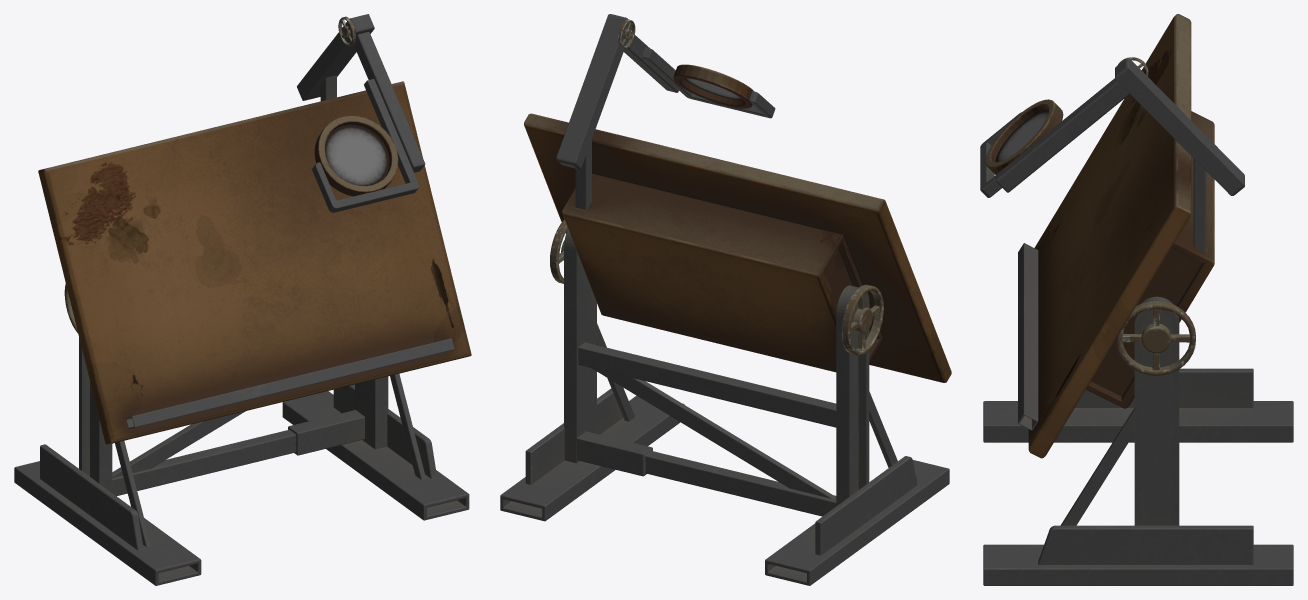
The model's file is pupitre1.fbx.
3 views of the same model, side by side, from view 1: azimuth 30°, elevation 25°; view 2: azimuth 150°, elevation 25°; view 3: azimuth 270°, elevation 25° (orthographic). The views are drawn at different scales.
Parts seen in each view (by area): view 1: Cube, Cube.005, Cube.008, Cube.004, Circle.010, Cube.002, Cube.010, Cube.006, Cube.011, Cube.003, Cube.009; view 2: Cube, Cube.002, Cube.005, Cube.008, Cube.007, Cube.004, Cube.010, Cube.009, Circle.004, Circle.010, Cube.003, Cube.011 (+1 smaller); view 3: Cube, Cube.005, Cube.004, Cube.002, Cube.010, Cube.006, Circle.004, Circle.010, Cube.003, Cube.001, Cube.011.
Boxes of the visible parts, x1,y1,x2,y2 form: Cube: (38, 81, 471, 444); Cube.005: (14, 391, 469, 585); Cube.008: (112, 410, 364, 496); Cube.004: (40, 384, 436, 550); Circle.010: (314, 115, 398, 196); Cube.002: (79, 337, 388, 492); Cube.010: (297, 14, 425, 172); Cube.006: (126, 338, 454, 429); Cube.011: (312, 79, 419, 212); Cube.003: (115, 373, 425, 546); Cube.009: (112, 411, 245, 477); Cube: (524, 113, 951, 382); Cube.002: (564, 229, 869, 505); Cube.005: (500, 395, 949, 585); Cube.008: (577, 431, 836, 516); Cube.007: (578, 342, 836, 427); Cube.004: (525, 388, 917, 555); Cube.010: (556, 14, 678, 168); Cube.009: (591, 368, 835, 498); Circle.004: (550, 219, 883, 355); Circle.010: (673, 64, 753, 108); Cube.003: (597, 323, 897, 467); Cube.011: (642, 47, 775, 118); Cube: (1028, 14, 1214, 458); Cube.005: (983, 401, 1293, 585); Cube.004: (1038, 368, 1253, 564); Cube.002: (1134, 296, 1179, 525); Cube.010: (996, 58, 1244, 195); Cube.006: (1018, 243, 1038, 430); Circle.004: (1116, 301, 1195, 375); Circle.010: (985, 99, 1063, 174); Cube.003: (1060, 408, 1134, 525); Cube.001: (1193, 158, 1206, 252); Cube.011: (980, 112, 1021, 197).
Size of the model in its own units: 559 by 675 by 383.
4 materials, 4 textured.
